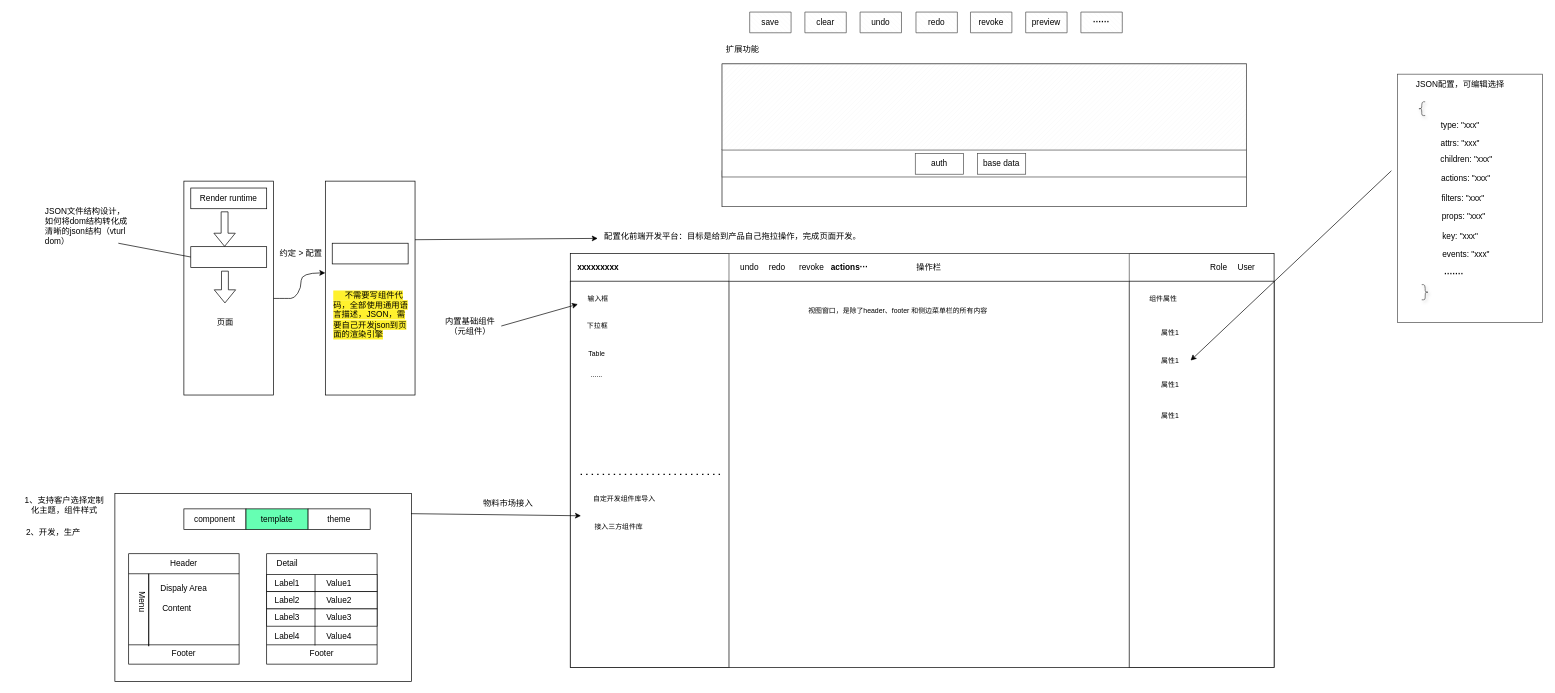
Some shapes in this 1555 by 693 pixel diagram are drawn without their labels. The shapes that lost their labels are listed below. From the top down, each one's centre as x and y in pixels, then its label:
At point (983, 188): "plugins/hooks".
At point (228, 256): "JSON 中间描述文件".
At point (370, 253): "Render渲染器".
